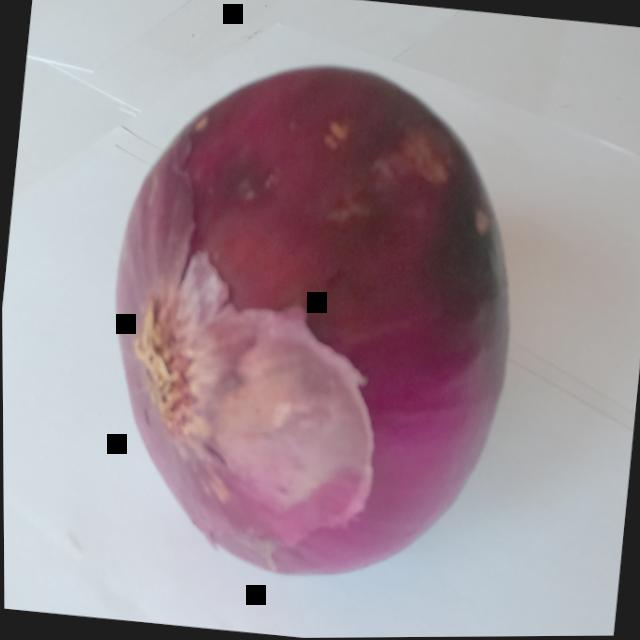Onion: (66, 30, 553, 617)
